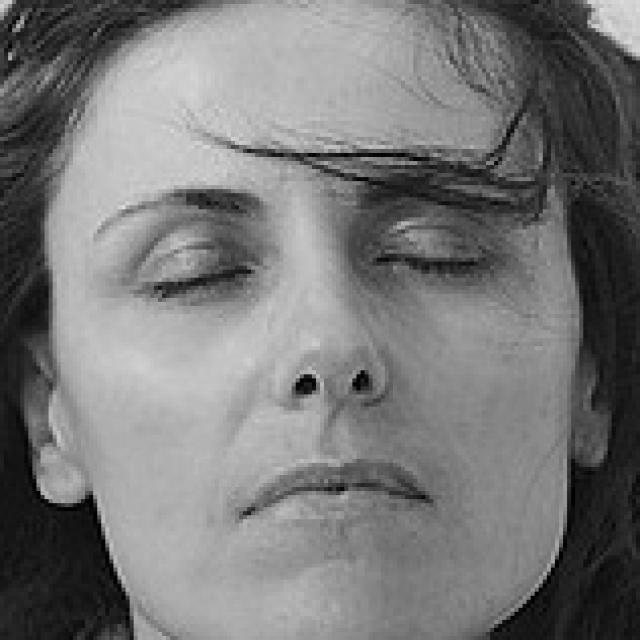real: (60, 12, 558, 610), (116, 202, 532, 310)
